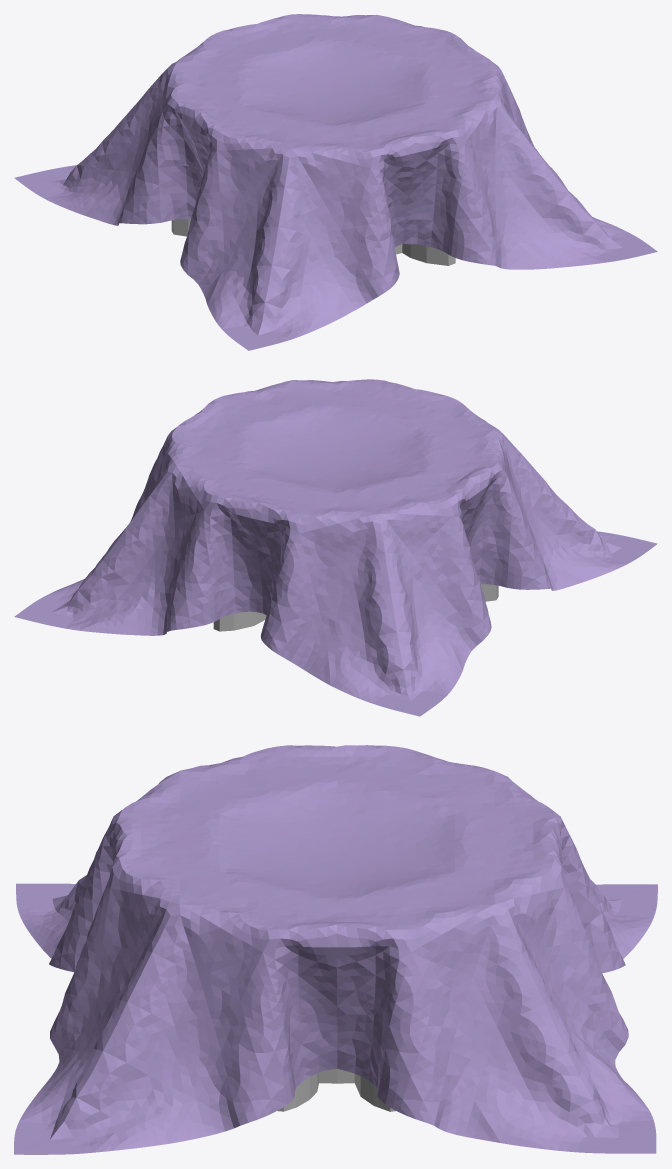
The model's file is level_2.glb.
The picture shows the model from 3 angles, top to bottom: view 1: azimuth 30°, elevation 25°; view 2: azimuth 150°, elevation 25°; view 3: azimuth 270°, elevation 25°; orthographic projection. The views are drawn at different scales.
Parts seen in each view (by area): view 1: world, object.obj; view 2: world, object.obj; view 3: world, object.obj.
Part boxes in pixels (left/top/right/bottom): world: left=14, top=14, right=657, bottom=350; object.obj: left=171, top=219, right=455, bottom=265; world: left=14, top=379, right=657, bottom=716; object.obj: left=213, top=584, right=498, bottom=631; world: left=14, top=745, right=657, bottom=1154; object.obj: left=277, top=1068, right=395, bottom=1111.
Size of the model in its own units: 0.5063 by 0.1598 by 0.5078.
